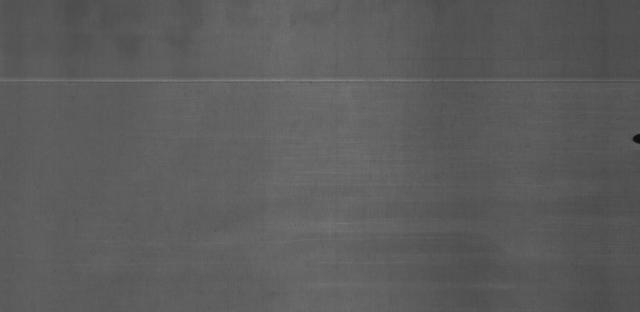punching_hole: (630, 130, 640, 147)
welding_line: (2, 71, 640, 92)
